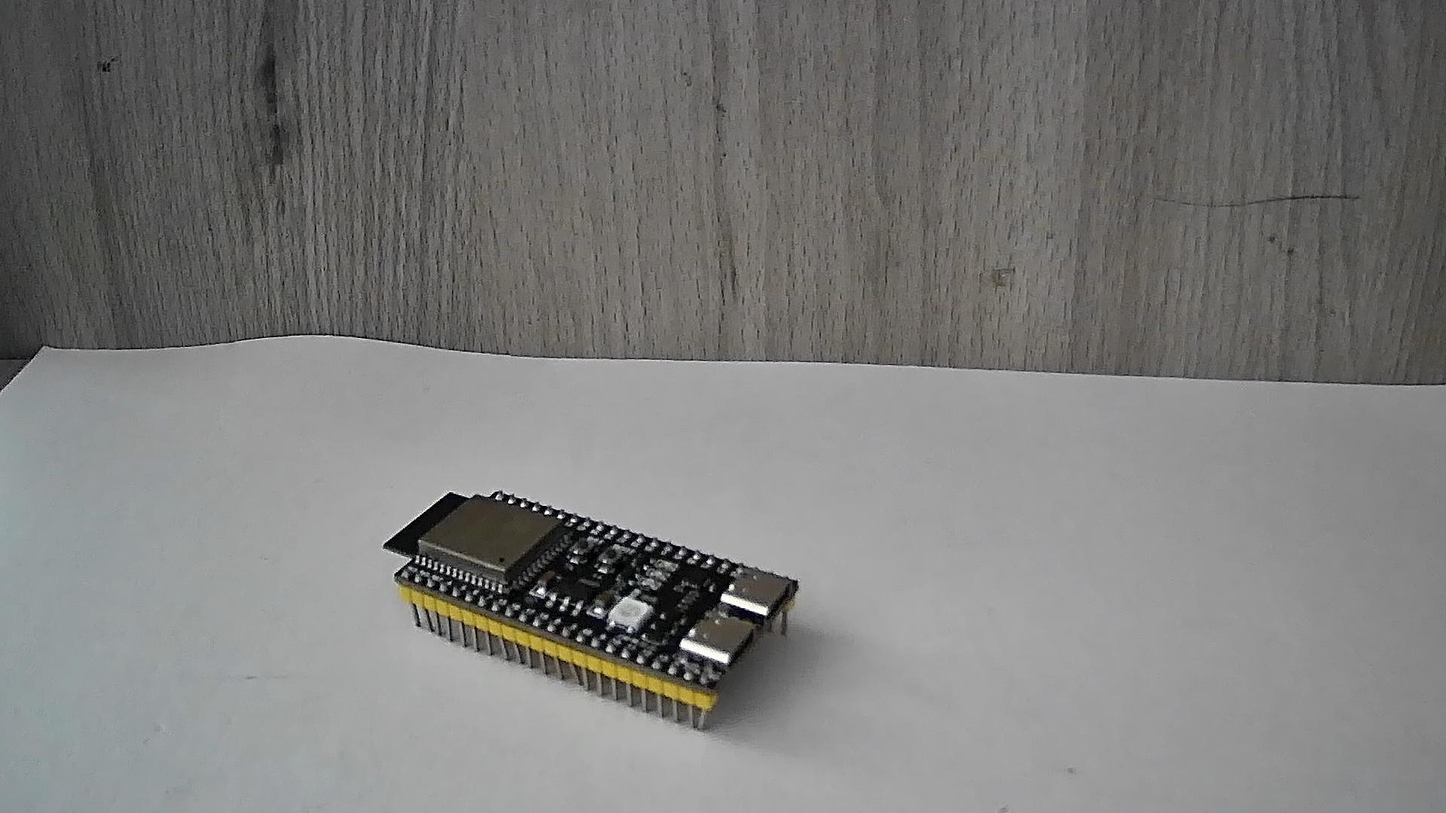ESP32: (380, 462, 821, 733)
